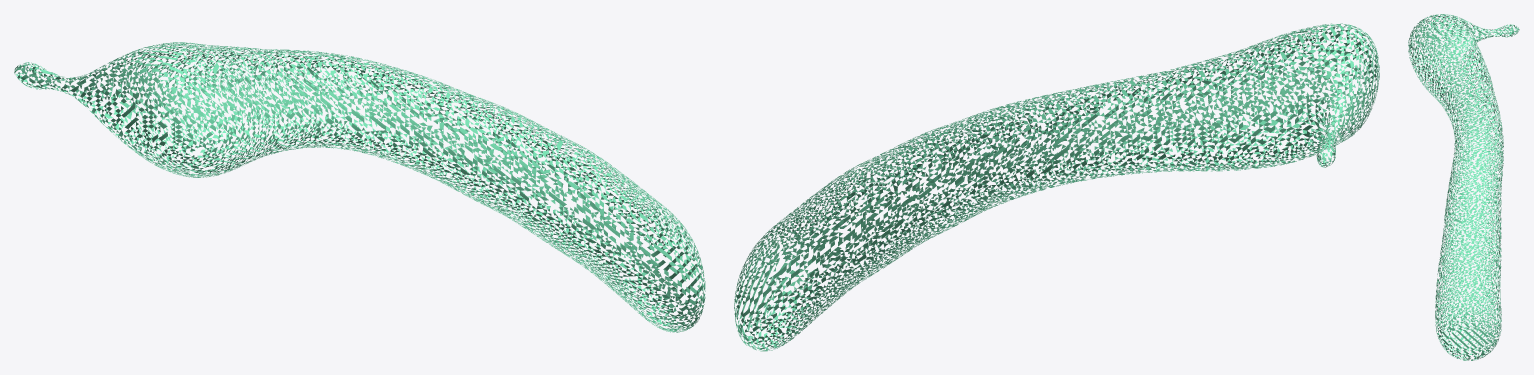
The model's file is healthy.glb.
The picture shows the model from 3 angles, left to right: view 1: azimuth 30°, elevation 25°; view 2: azimuth 150°, elevation 25°; view 3: azimuth 270°, elevation 25°; orthographic projection. The views are drawn at different scales.
Bounding box in the file's own units: 105 × 68.6 × 32.5.
